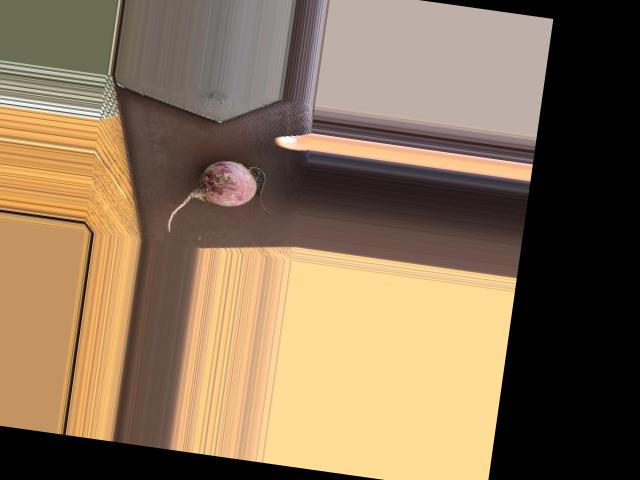beet: (166, 153, 274, 244)
